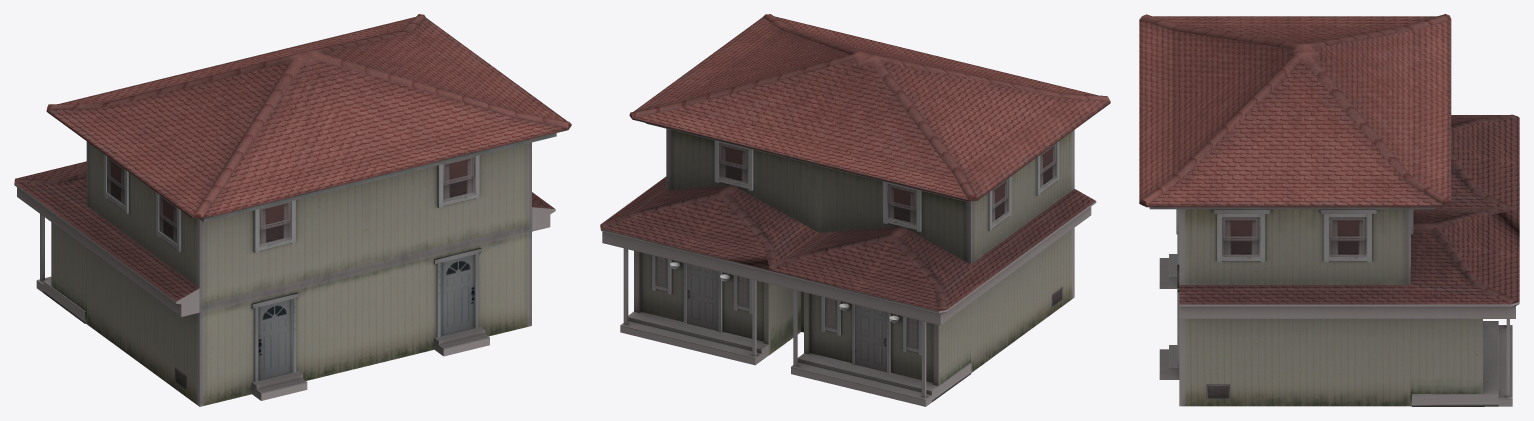
File: house15.obj
The picture shows the model from 3 angles, left to right: view 1: azimuth 30°, elevation 25°; view 2: azimuth 150°, elevation 25°; view 3: azimuth 270°, elevation 25°; orthographic projection. The views are drawn at different scales.
Visible parts, largest first — view 1: City_building_037.001; view 2: City_building_037.001; view 3: City_building_037.001.
Boxes of the visible parts, x1,y1,x2,y2 form: City_building_037.001: (14,14,571,406); City_building_037.001: (600,14,1110,406); City_building_037.001: (1139,14,1519,406).
Bounding box in the file's own units: 2.46 × 1.66 × 2.09.
Materials: 1 (1 with a texture image).
